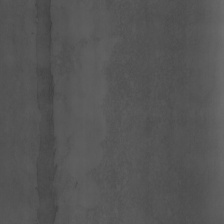water_spot: (31, 1, 67, 218)
